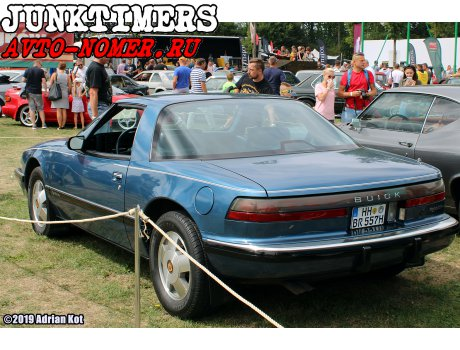License Plates: (349, 204, 390, 227)
